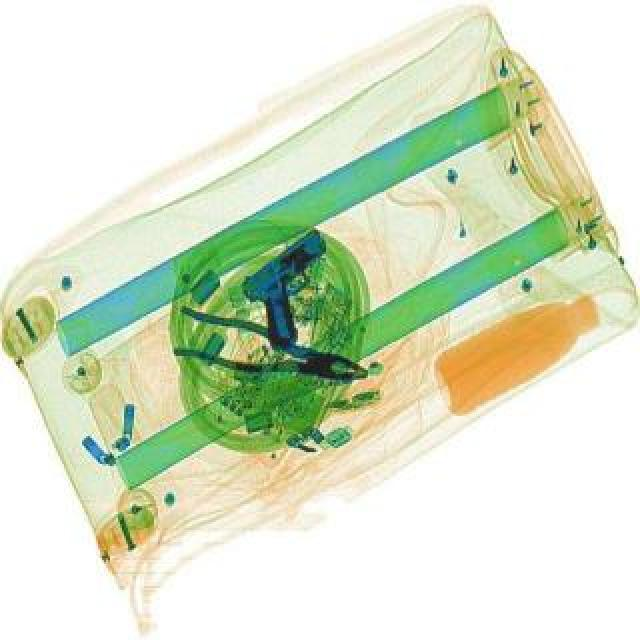gun: (224, 224, 370, 352)
wrench: (166, 304, 374, 398)
